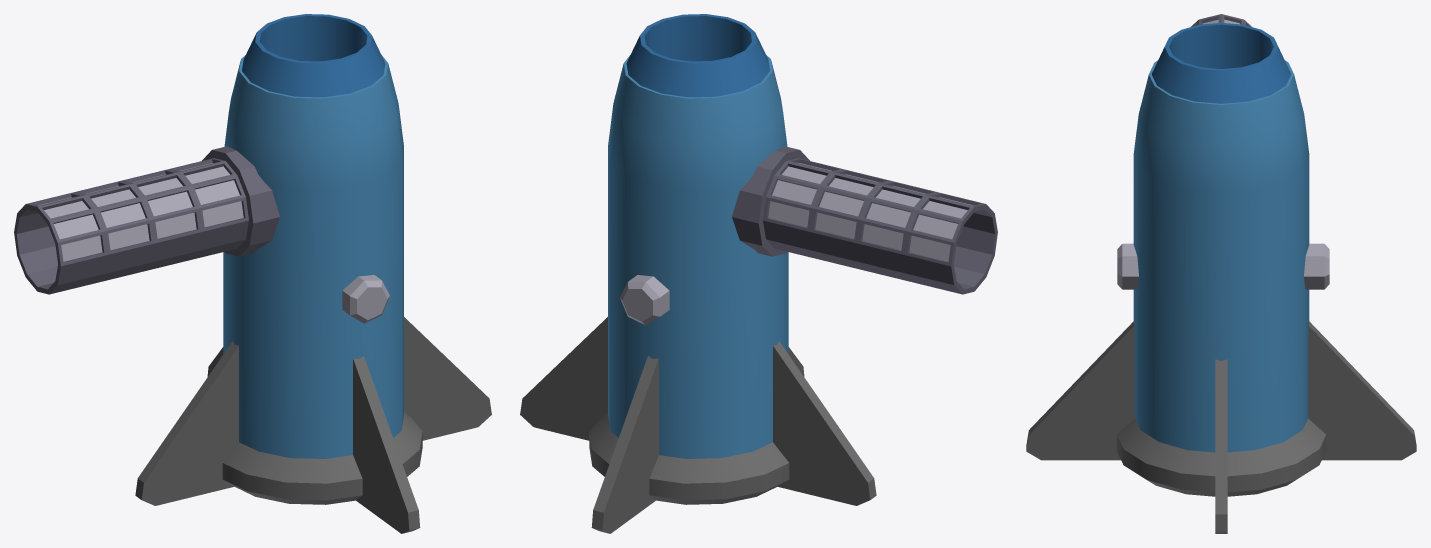
The model's file is Ball_Throwing_Machine_03.fbx.
3 views of the same model, side by side, from view 1: azimuth 30°, elevation 25°; view 2: azimuth 150°, elevation 25°; view 3: azimuth 270°, elevation 25° (orthographic). The views are drawn at different scales.
Parts seen in each view (by area): view 1: Ball_Throwing_Machine_03; view 2: Ball_Throwing_Machine_03; view 3: Ball_Throwing_Machine_03.
Part boxes in pixels (x1,y1,x2,y2): Ball_Throwing_Machine_03: (14, 14, 491, 533); Ball_Throwing_Machine_03: (520, 14, 997, 533); Ball_Throwing_Machine_03: (1026, 14, 1416, 533).
Size of the model in its own units: 5.73 by 5.17 by 4.45.
Materials: 1 (1 with a texture image).
